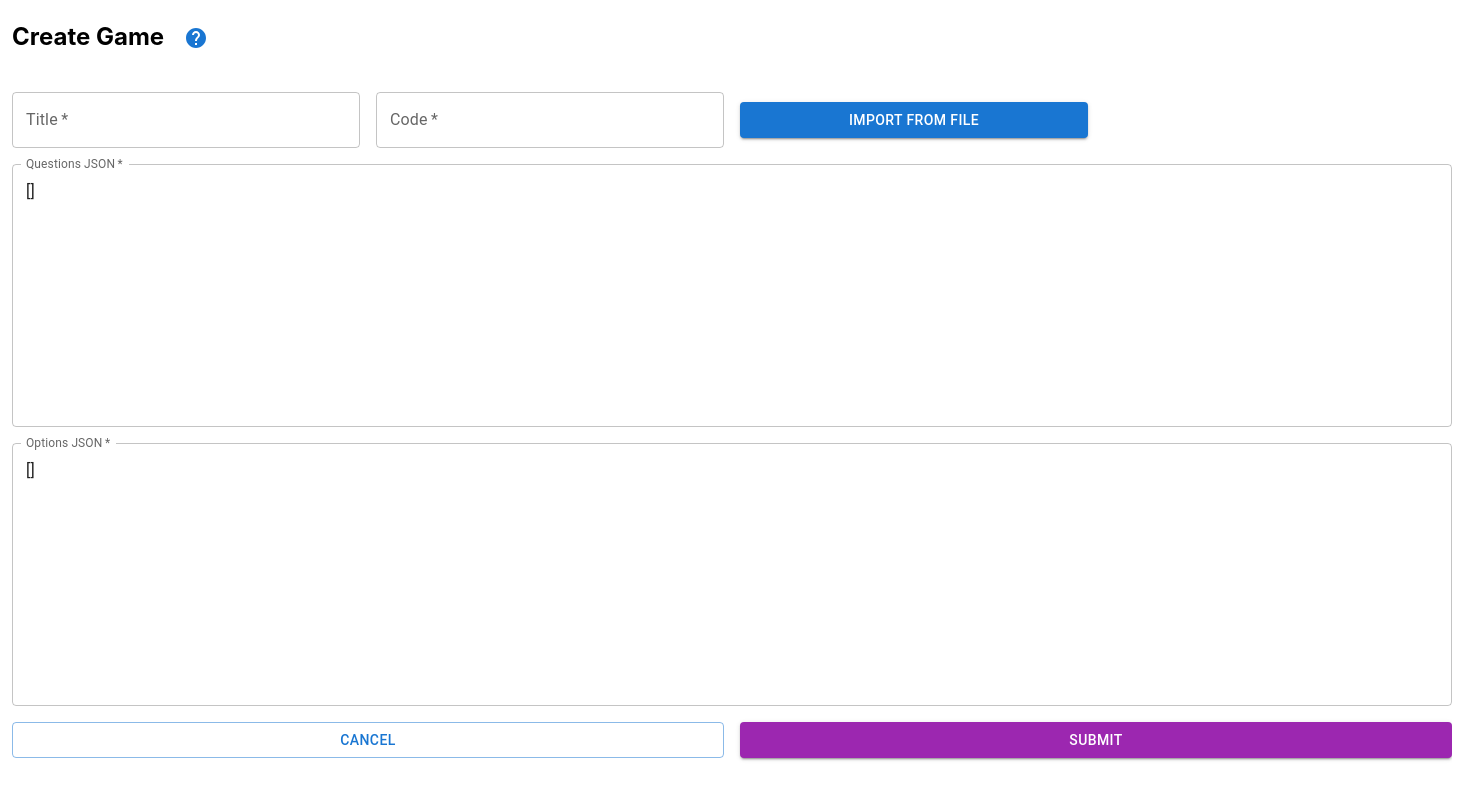
<GameFields /> › Popup Help › should open popup when question icon clicked
Click the button with id "help" at (196, 38), box [164,20,228,56]
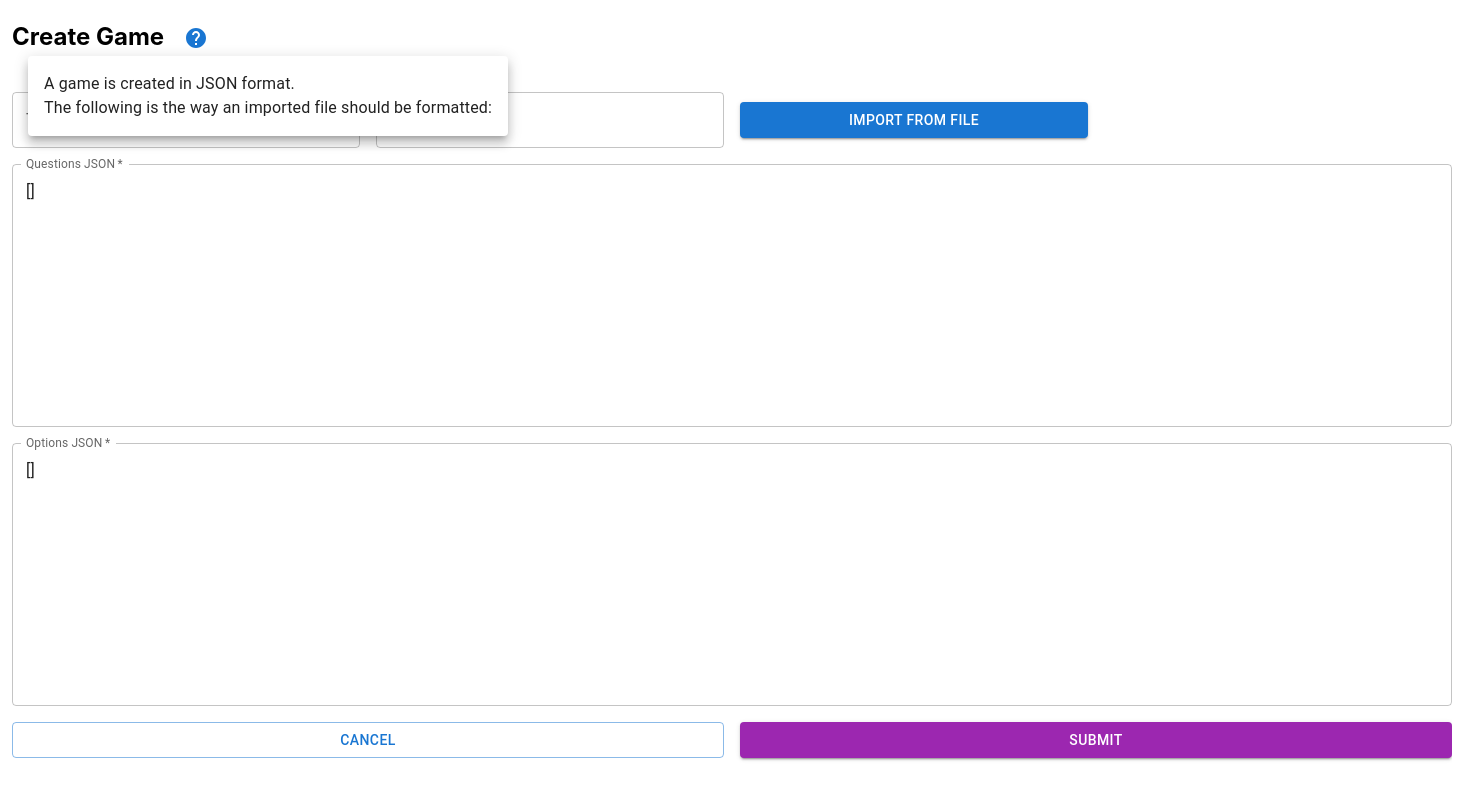
expect the element with id "gameFormatHelp" is shown: met, box [28,56,508,136]
